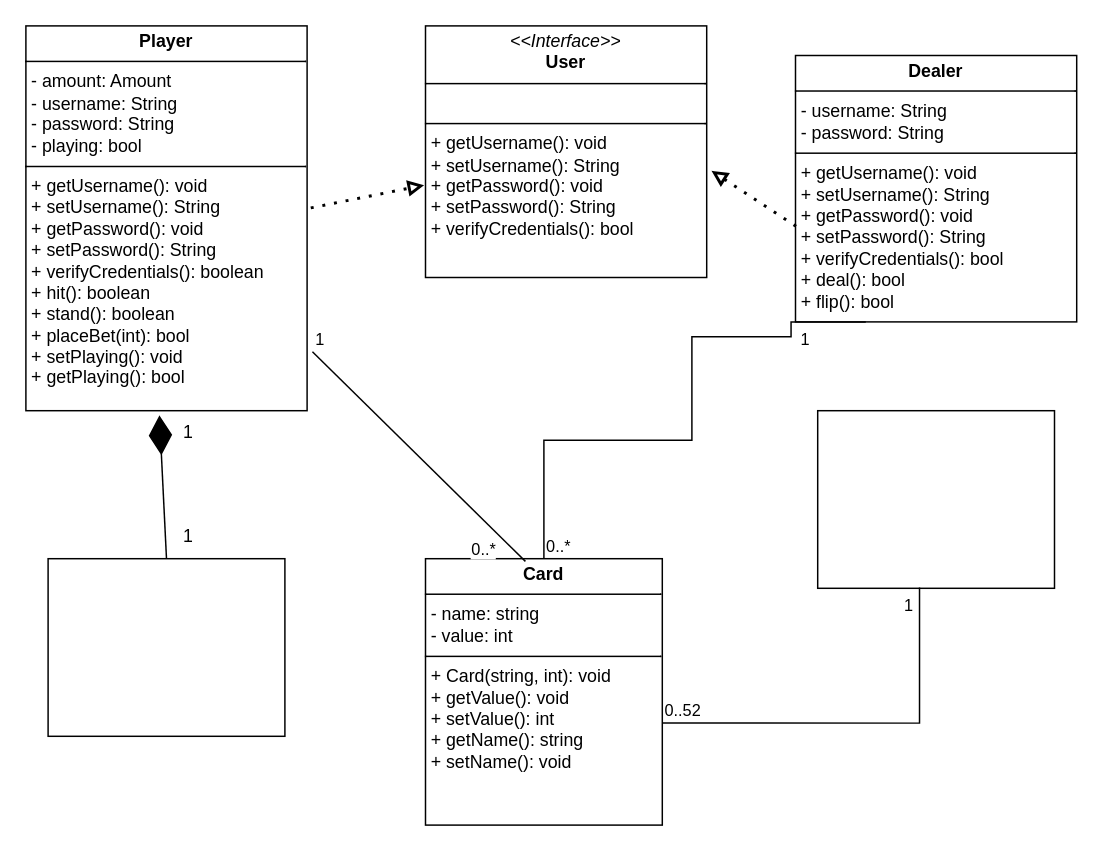
Some shapes in this 1103 by 851 pixel diagram are drawn without their labels. Each missing label, with the box of its shape:
Amount - total:int + addAmount(): int + deductAmount(): int + getAmount(): int: (47, 557, 285, 736)
Deck + getCard(): Card + resetDeck(): bool + shuffleDeck(): void: (816, 409, 1054, 588)
